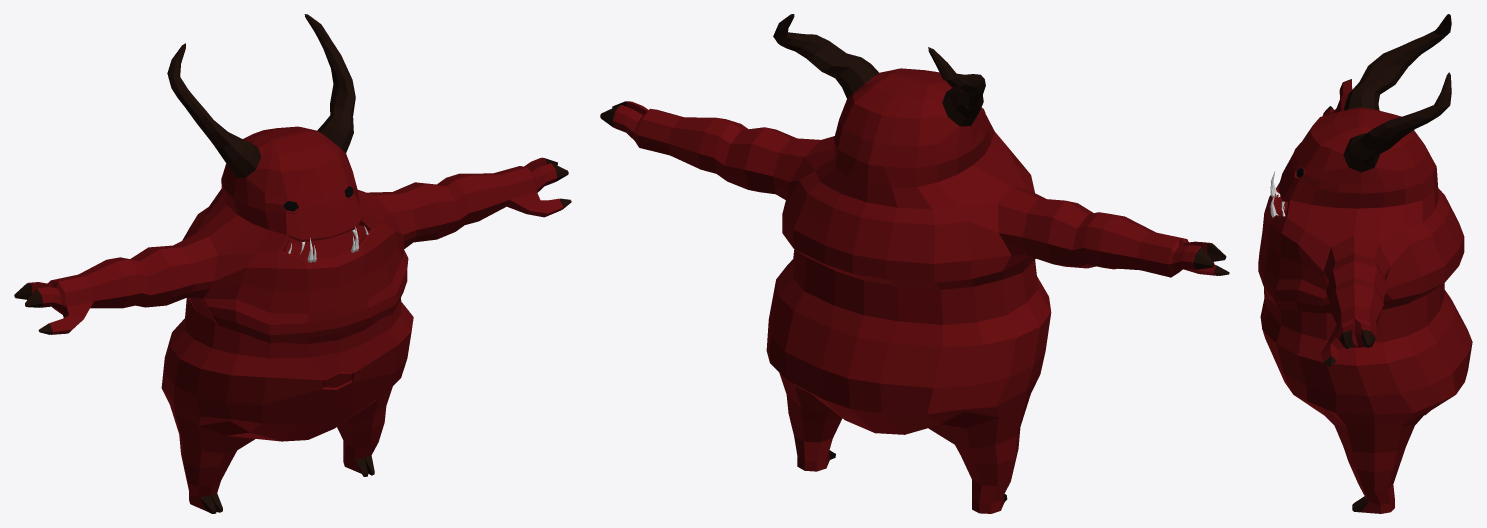
File: EM_Imp.fbx
3 views of the same model, side by side, from view 1: azimuth 30°, elevation 25°; view 2: azimuth 150°, elevation 25°; view 3: azimuth 270°, elevation 25° (orthographic). The views are drawn at different scales.
Parts seen in each view (by area): view 1: Cube; view 2: Cube; view 3: Cube.
Boxes of the visible parts, x1,y1,x2,y2 form: Cube: (14, 14, 571, 513); Cube: (600, 14, 1229, 513); Cube: (1258, 14, 1472, 513).
Size of the model in its own units: 683 by 518 by 234.
